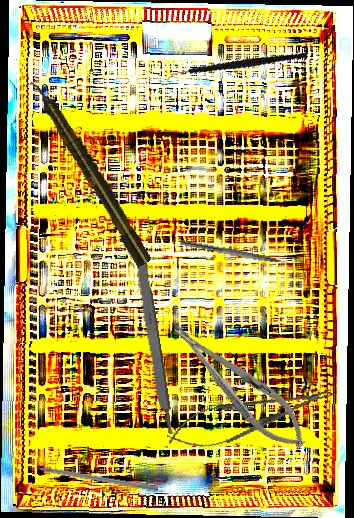Chopper: (165, 24, 307, 111), (177, 239, 300, 274)
Handpiece: (26, 75, 154, 269)
Hook Surgical: (18, 460, 159, 493)
Needle Holder: (162, 311, 318, 461), (162, 373, 338, 460)
Scalpel Handle: (129, 234, 175, 436)
